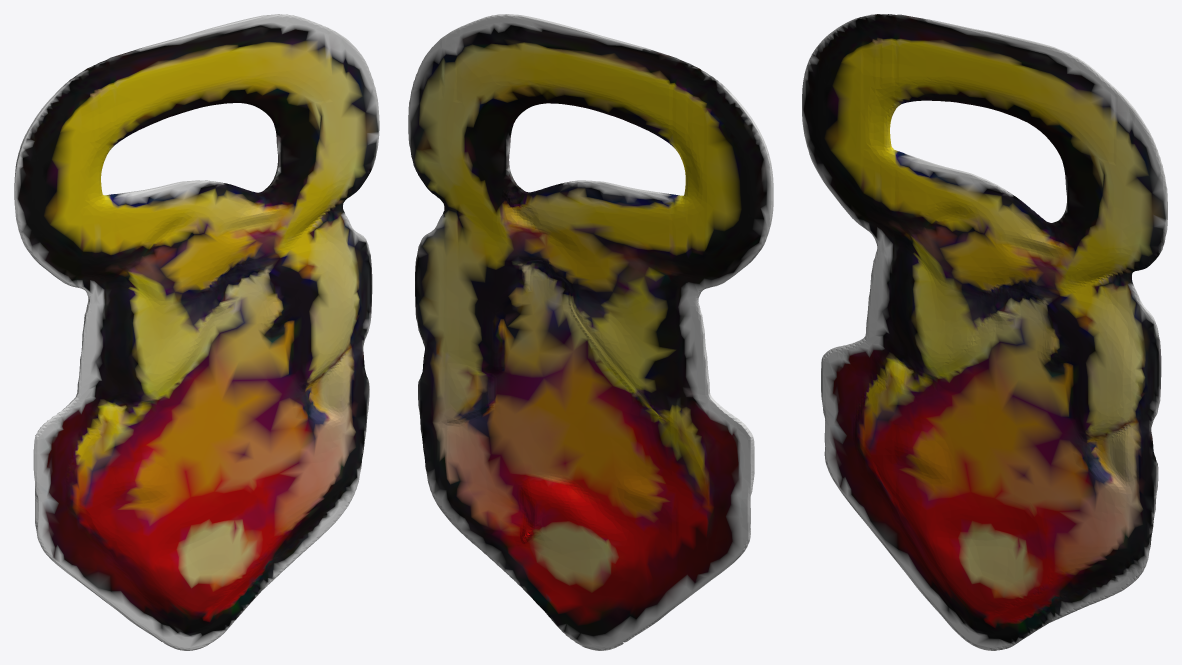
The model's file is amulet_empowerement.glb.
3 views of the same model, side by side, from view 1: azimuth 30°, elevation 25°; view 2: azimuth 150°, elevation 25°; view 3: azimuth 330°, elevation 25° (orthographic).
Visible parts, largest first — view 1: geometry_0; view 2: geometry_0; view 3: geometry_0.
Part boxes in pixels (x1,y1,x2,y2): geometry_0: (14, 14, 379, 650); geometry_0: (408, 14, 773, 650); geometry_0: (802, 14, 1167, 650).
Size of the model in its own units: 0.4375 by 0.7082 by 0.023.
